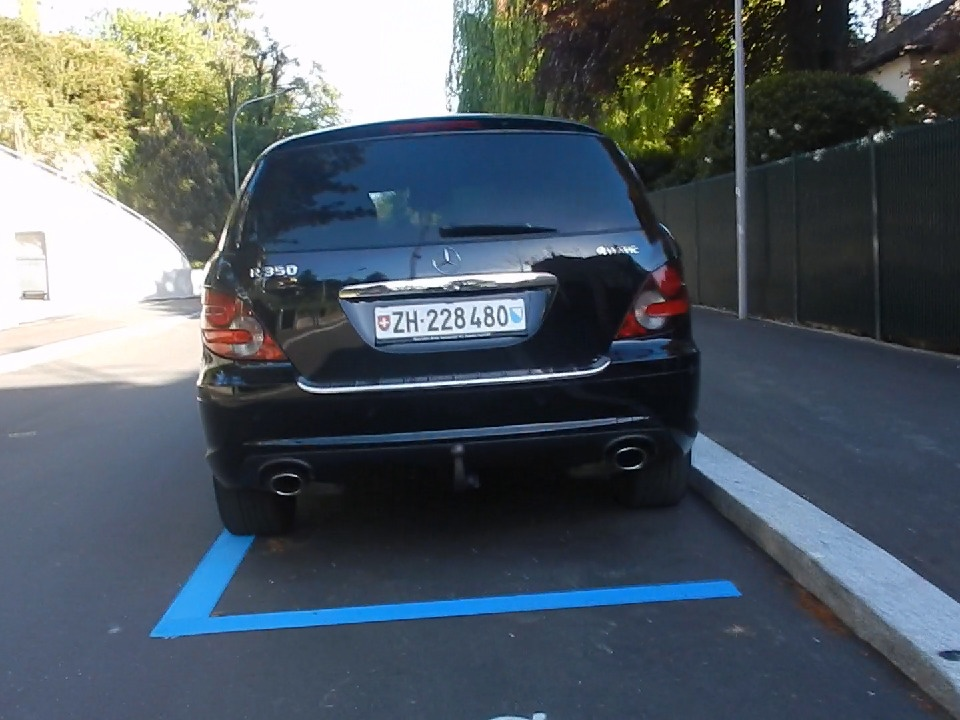car: (180, 109, 721, 553)
